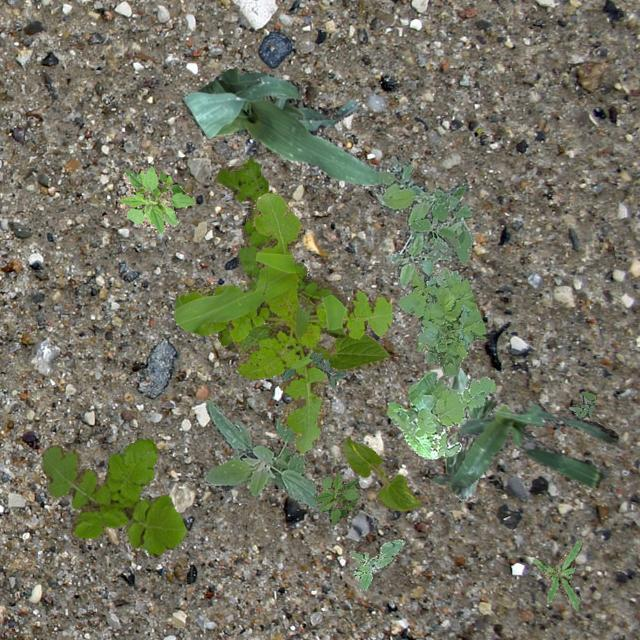crop: (180, 66, 380, 184), (430, 399, 618, 486), (231, 322, 389, 370), (444, 366, 498, 499), (252, 268, 344, 336), (342, 438, 421, 510)
weed: (174, 192, 392, 454), (216, 154, 346, 348), (42, 436, 185, 554), (202, 400, 328, 514), (371, 152, 472, 288), (396, 258, 484, 376), (386, 371, 494, 458), (116, 165, 194, 232), (532, 540, 580, 610), (406, 192, 459, 255), (348, 538, 404, 590), (312, 469, 360, 524), (280, 348, 346, 386), (568, 391, 596, 418)
